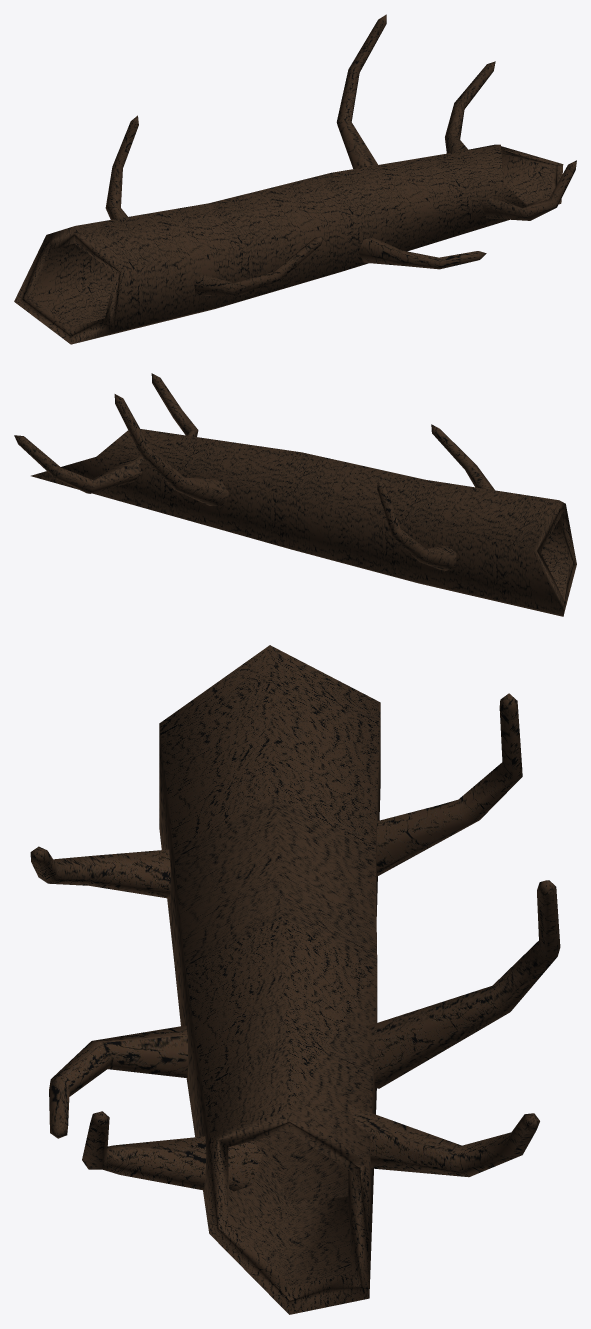
The model's file is fallentreesfbx.fbx.
The picture shows the model from 3 angles, top to bottom: view 1: azimuth 30°, elevation 25°; view 2: azimuth 150°, elevation 25°; view 3: azimuth 270°, elevation 25°; orthographic projection. The views are drawn at different scales.
Visible parts, largest first — view 1: pCylinder1, pCylinder2, pCylinder4, pCylinder6, pCylinder5, pCylinder3, pCylinder7; view 2: pCylinder1, pCylinder2, pCylinder3, pCylinder7, pCylinder6, pCylinder5; view 3: pCylinder1, pCylinder2, pCylinder7, pCylinder3, pCylinder5, pCylinder4, pCylinder6.
Part boxes in pixels (x1,y1,x2,y2): pCylinder1: (14,144,563,344); pCylinder2: (336,14,386,168); pCylinder4: (358,237,486,269); pCylinder6: (193,235,324,296); pCylinder5: (482,160,576,220); pCylinder3: (445,61,495,153); pCylinder7: (105,115,138,219); pCylinder1: (31,429,576,616); pCylinder2: (114,394,228,505); pCylinder3: (14,435,143,493); pCylinder7: (377,479,456,571); pCylinder6: (431,424,494,490); pCylinder5: (151,373,198,436); pCylinder1: (159,645,380,1314); pCylinder2: (368,880,560,1088); pCylinder7: (376,693,522,876); pCylinder3: (333,1104,539,1177); pCylinder5: (82,1111,262,1191); pCylinder4: (49,1025,188,1138); pCylinder6: (30,846,170,898).
Size of the model in its own units: 11.65 by 3.78 by 4.98.
